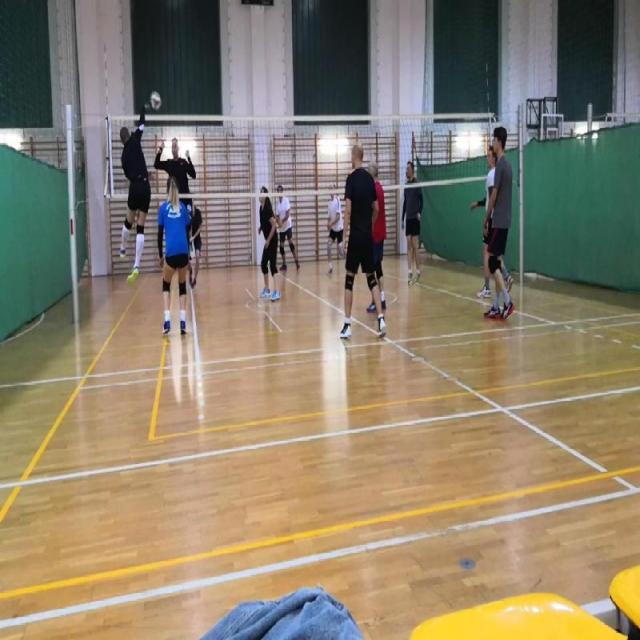volleyball: (150, 91, 161, 108)
